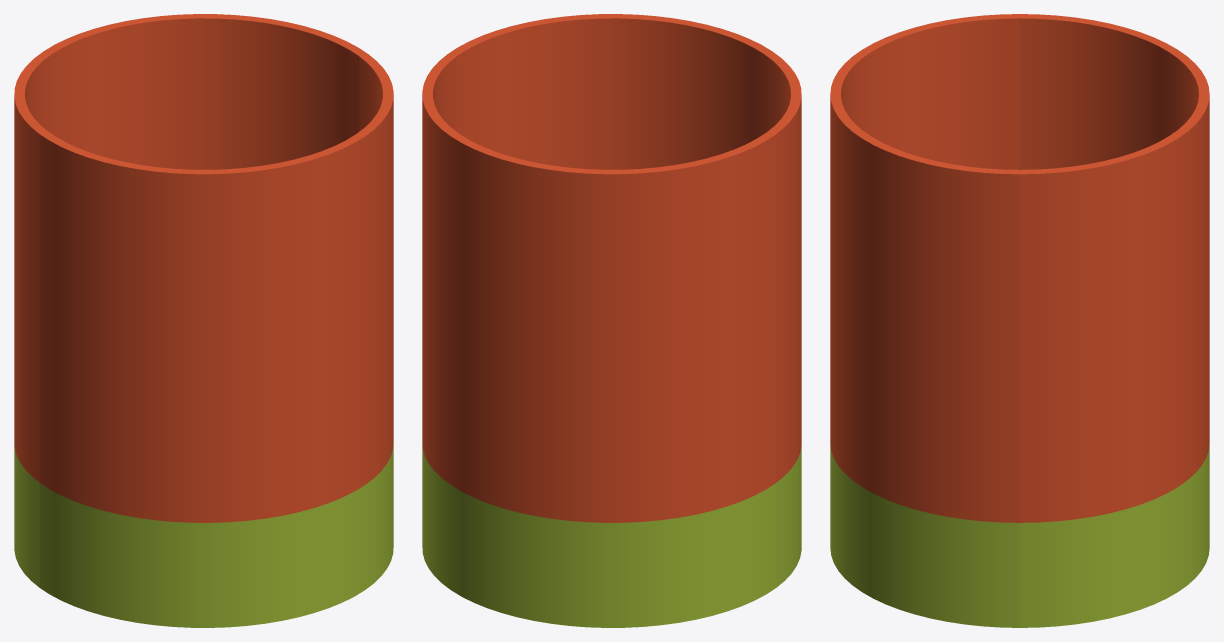
The model's file is cartridge_filter_pressure.glb.
3 renders of one model, left to right at view 1: azimuth 30°, elevation 25°; view 2: azimuth 150°, elevation 25°; view 3: azimuth 270°, elevation 25°, orthographic.
Parts seen in each view (by area): view 1: press__front, press__back; view 2: press__back, press__front; view 3: press__back, press__front.
Boxes of the visible parts, left/top/right/bottom form: press__front: left=39, top=54, right=393, bottom=627; press__back: left=14, top=14, right=367, bottom=587; press__back: left=422, top=54, right=776, bottom=627; press__front: left=448, top=14, right=801, bottom=587; press__back: left=1020, top=14, right=1209, bottom=627; press__front: left=830, top=14, right=1019, bottom=627.
Size of the model in its own units: 0.72 by 0.95 by 0.72.
